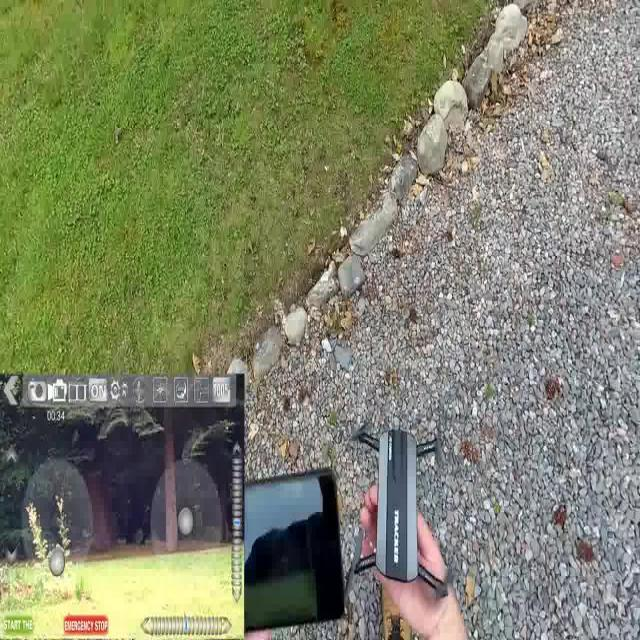drones: (331, 391, 468, 625)
